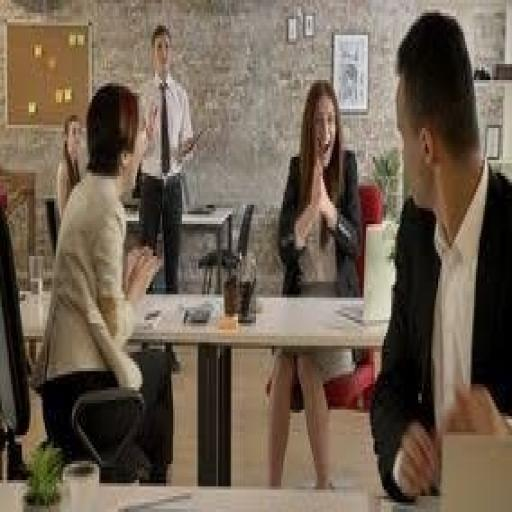clapping: (33, 80, 173, 480), (263, 76, 364, 490)
